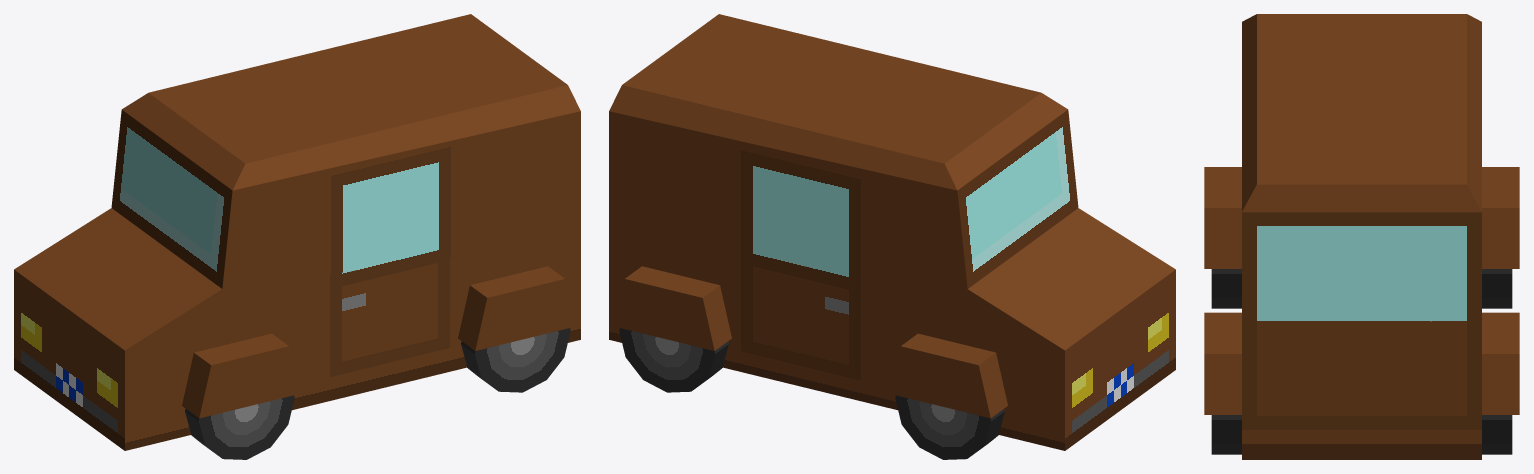
File: brown.gltf
The picture shows the model from 3 angles, left to right: view 1: azimuth 30°, elevation 25°; view 2: azimuth 150°, elevation 25°; view 3: azimuth 270°, elevation 25°; orthographic projection. The views are drawn at different scales.
Parts seen in each view (by area): view 1: cube (×3), circle (×2); view 2: cube (×3), circle (×2); view 3: cube (×5), circle (×4).
Boxes of the visible parts, x1,y1,x2,y2 form: cube (×3): [14, 14, 580, 450]; circle (×2): [185, 328, 570, 459]; cube (×3): [609, 14, 1175, 450]; circle (×2): [619, 328, 1004, 459]; cube (×5): [1204, 14, 1519, 459]; circle (×4): [1211, 269, 1512, 454].
Size of the model in its own units: 2.38 by 1.38 by 1.31.
1 material, 1 textured.
